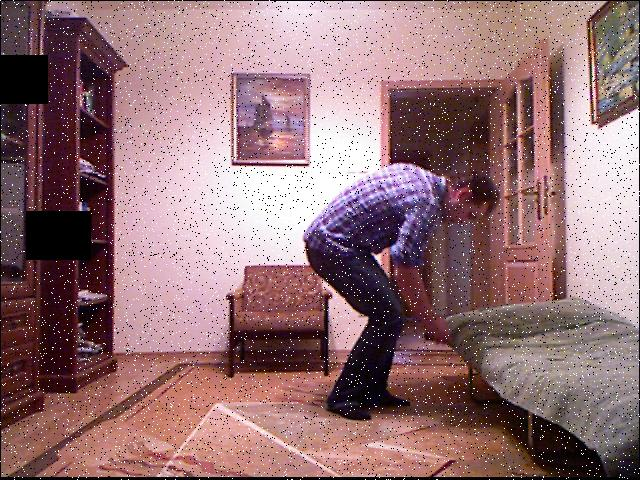bending: (298, 134, 506, 438)
